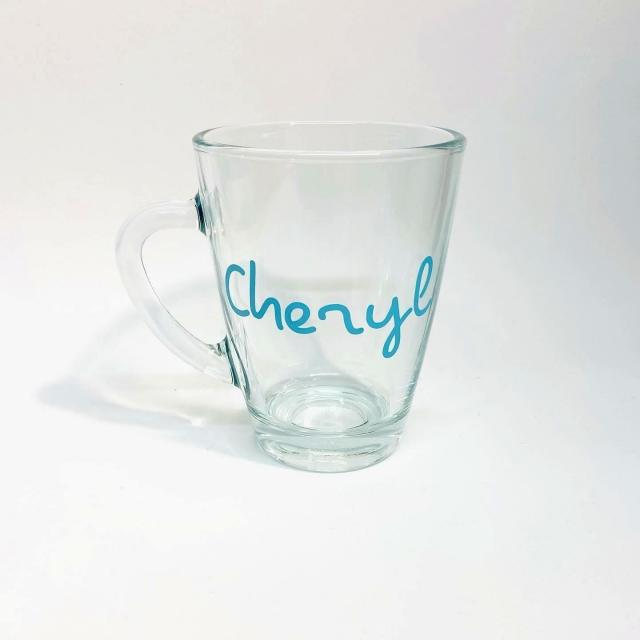glass-mug: (120, 117, 478, 480)
